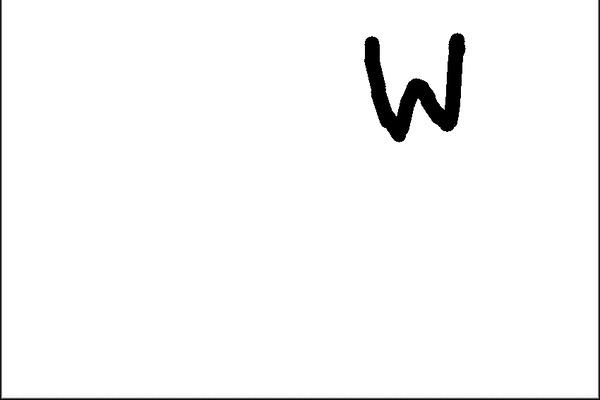w: (345, 20, 492, 149)
